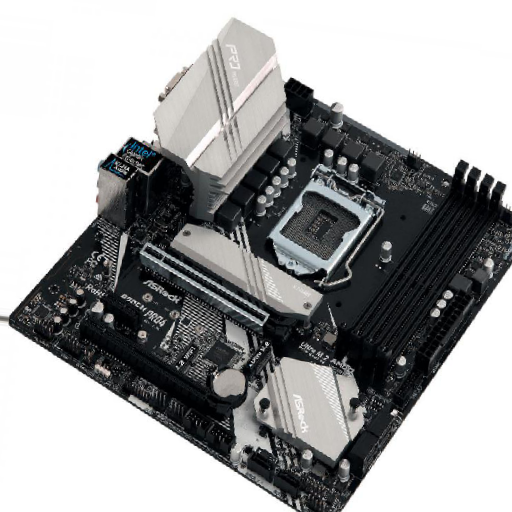CPU: (273, 163, 383, 279)
GPU: (82, 315, 238, 420), (140, 244, 301, 341)
MOTHERBOARD: (13, 79, 510, 512)
RAM: (340, 162, 504, 376)
SSD: (237, 342, 273, 379)
